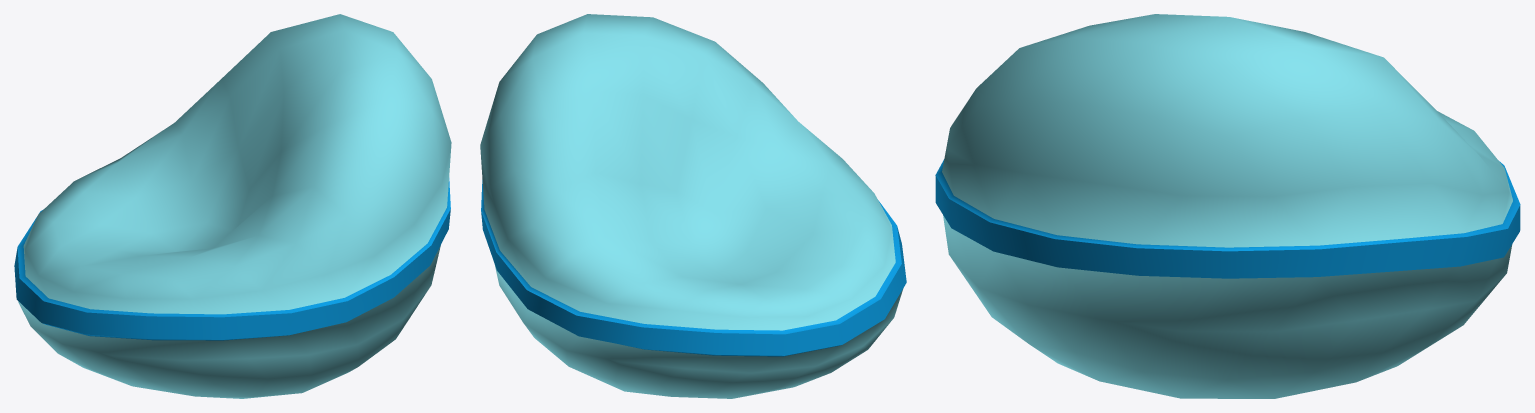
The model's file is Beanbag03.fbx.
3 renders of one model, left to right at view 1: azimuth 30°, elevation 25°; view 2: azimuth 150°, elevation 25°; view 3: azimuth 270°, elevation 25°, orthographic. The views are drawn at different scales.
Visible parts, largest first — view 1: Beanbag03; view 2: Beanbag03; view 3: Beanbag03.
Boxes of the visible parts, bbox=[...] form: Beanbag03: bbox=[14, 14, 451, 398]; Beanbag03: bbox=[480, 14, 906, 398]; Beanbag03: bbox=[935, 14, 1520, 398].
Bounding box in the file's own units: 0.4009 × 0.3852 × 0.2993.
